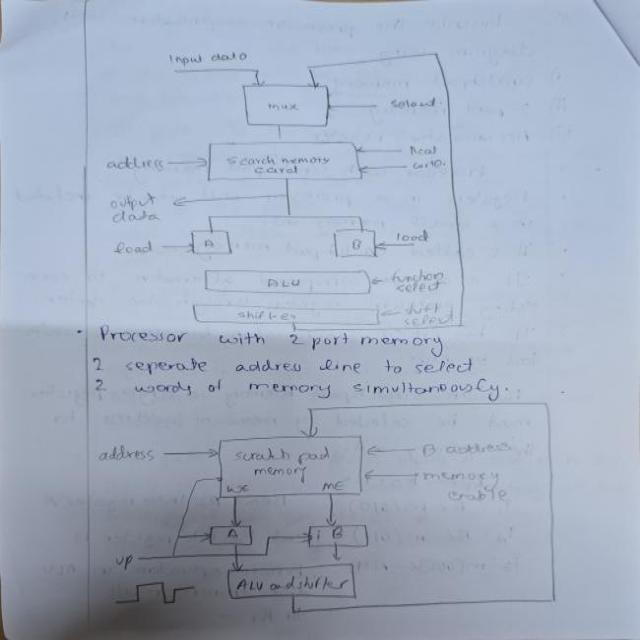Figure Detection - v3 Dataset Version2: (97, 41, 503, 342), (86, 396, 564, 627)
